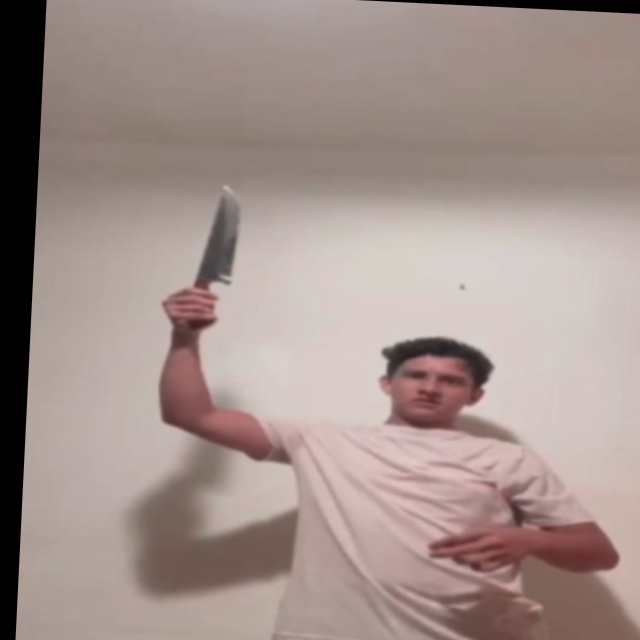Sharp-Object: (202, 181, 248, 283)
